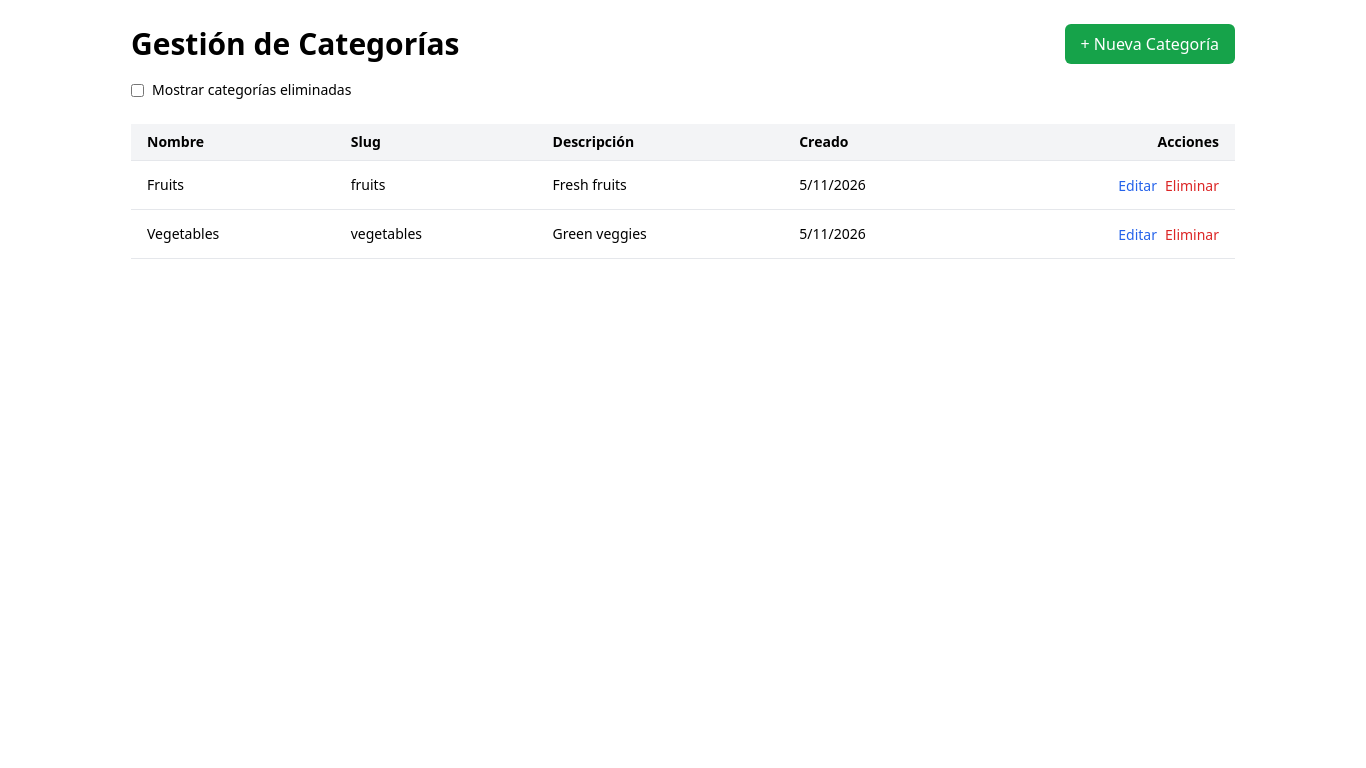
CategoriesPage › opens delete confirmation when delete action is clicked
Click the button "Eliminar" in the row of "Fresh fruits".
click(1192, 186)  # box [1165, 176, 1219, 196]
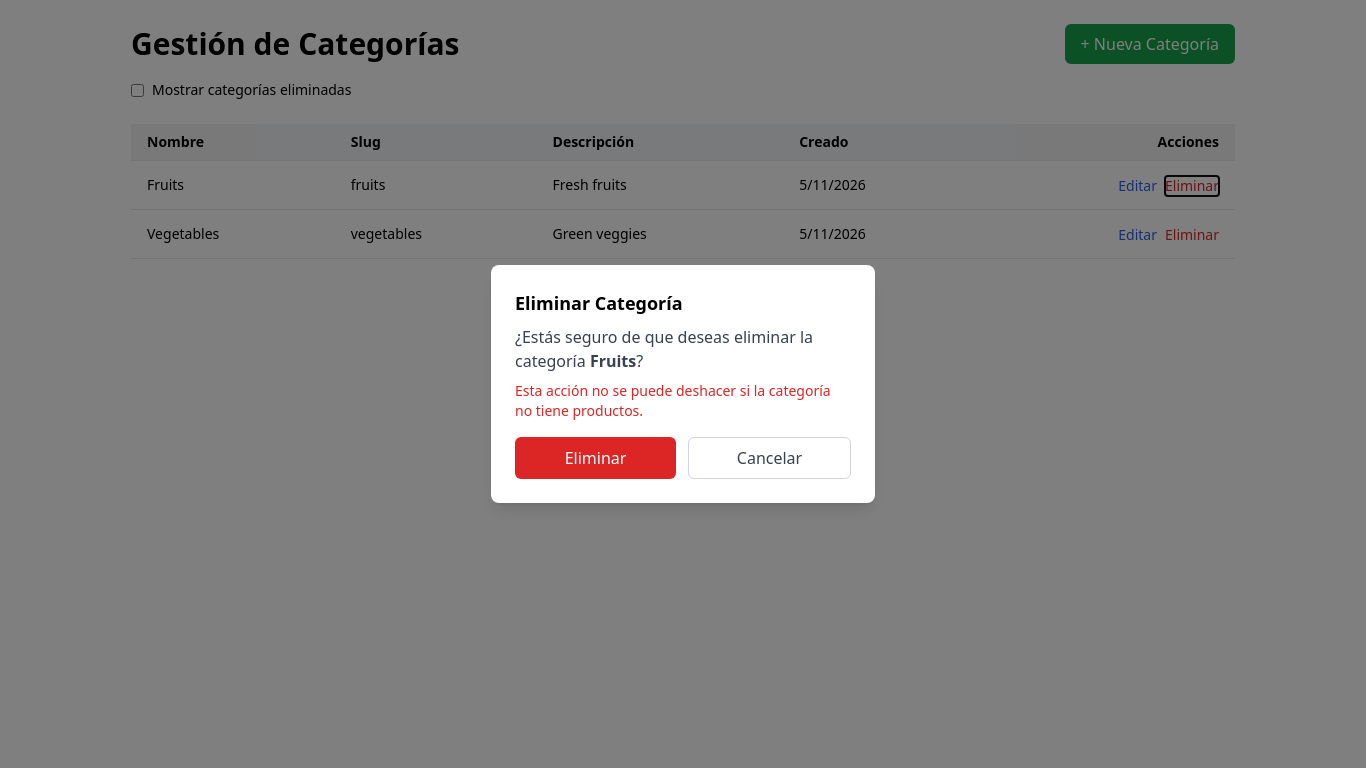
Check: the text "¿Estás seguro de que deseas eliminar la categoría Fruits?" is shown, box [515, 325, 851, 373]
